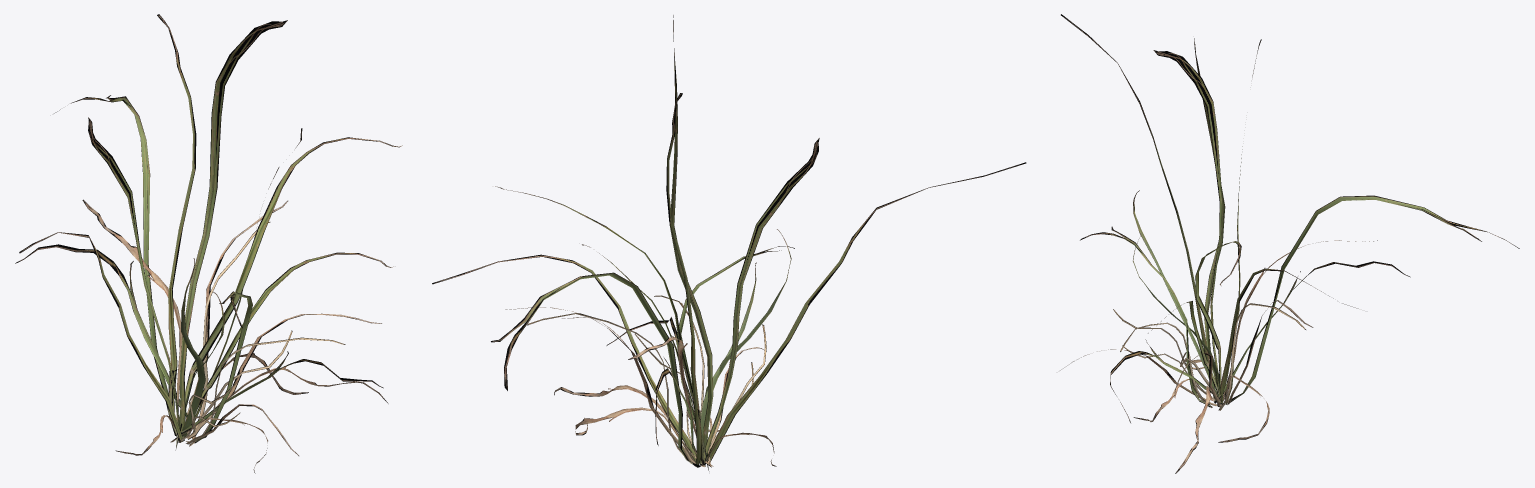
The model's file is grass_medium_02_v3.gltf.
The picture shows the model from 3 angles, left to right: view 1: azimuth 30°, elevation 25°; view 2: azimuth 150°, elevation 25°; view 3: azimuth 270°, elevation 25°; orthographic projection. The views are drawn at different scales.
Parts seen in each view (by area): view 1: grass_medium_02_v3; view 2: grass_medium_02_v3; view 3: grass_medium_02_v3.
Part boxes in pixels (bbox=[...]): grass_medium_02_v3: bbox=[15, 14, 402, 473]; grass_medium_02_v3: bbox=[432, 15, 1026, 471]; grass_medium_02_v3: bbox=[1060, 14, 1519, 473].
Size of the model in its own units: 0.2617 by 0.2317 by 0.2495.
1 material, 1 textured.
